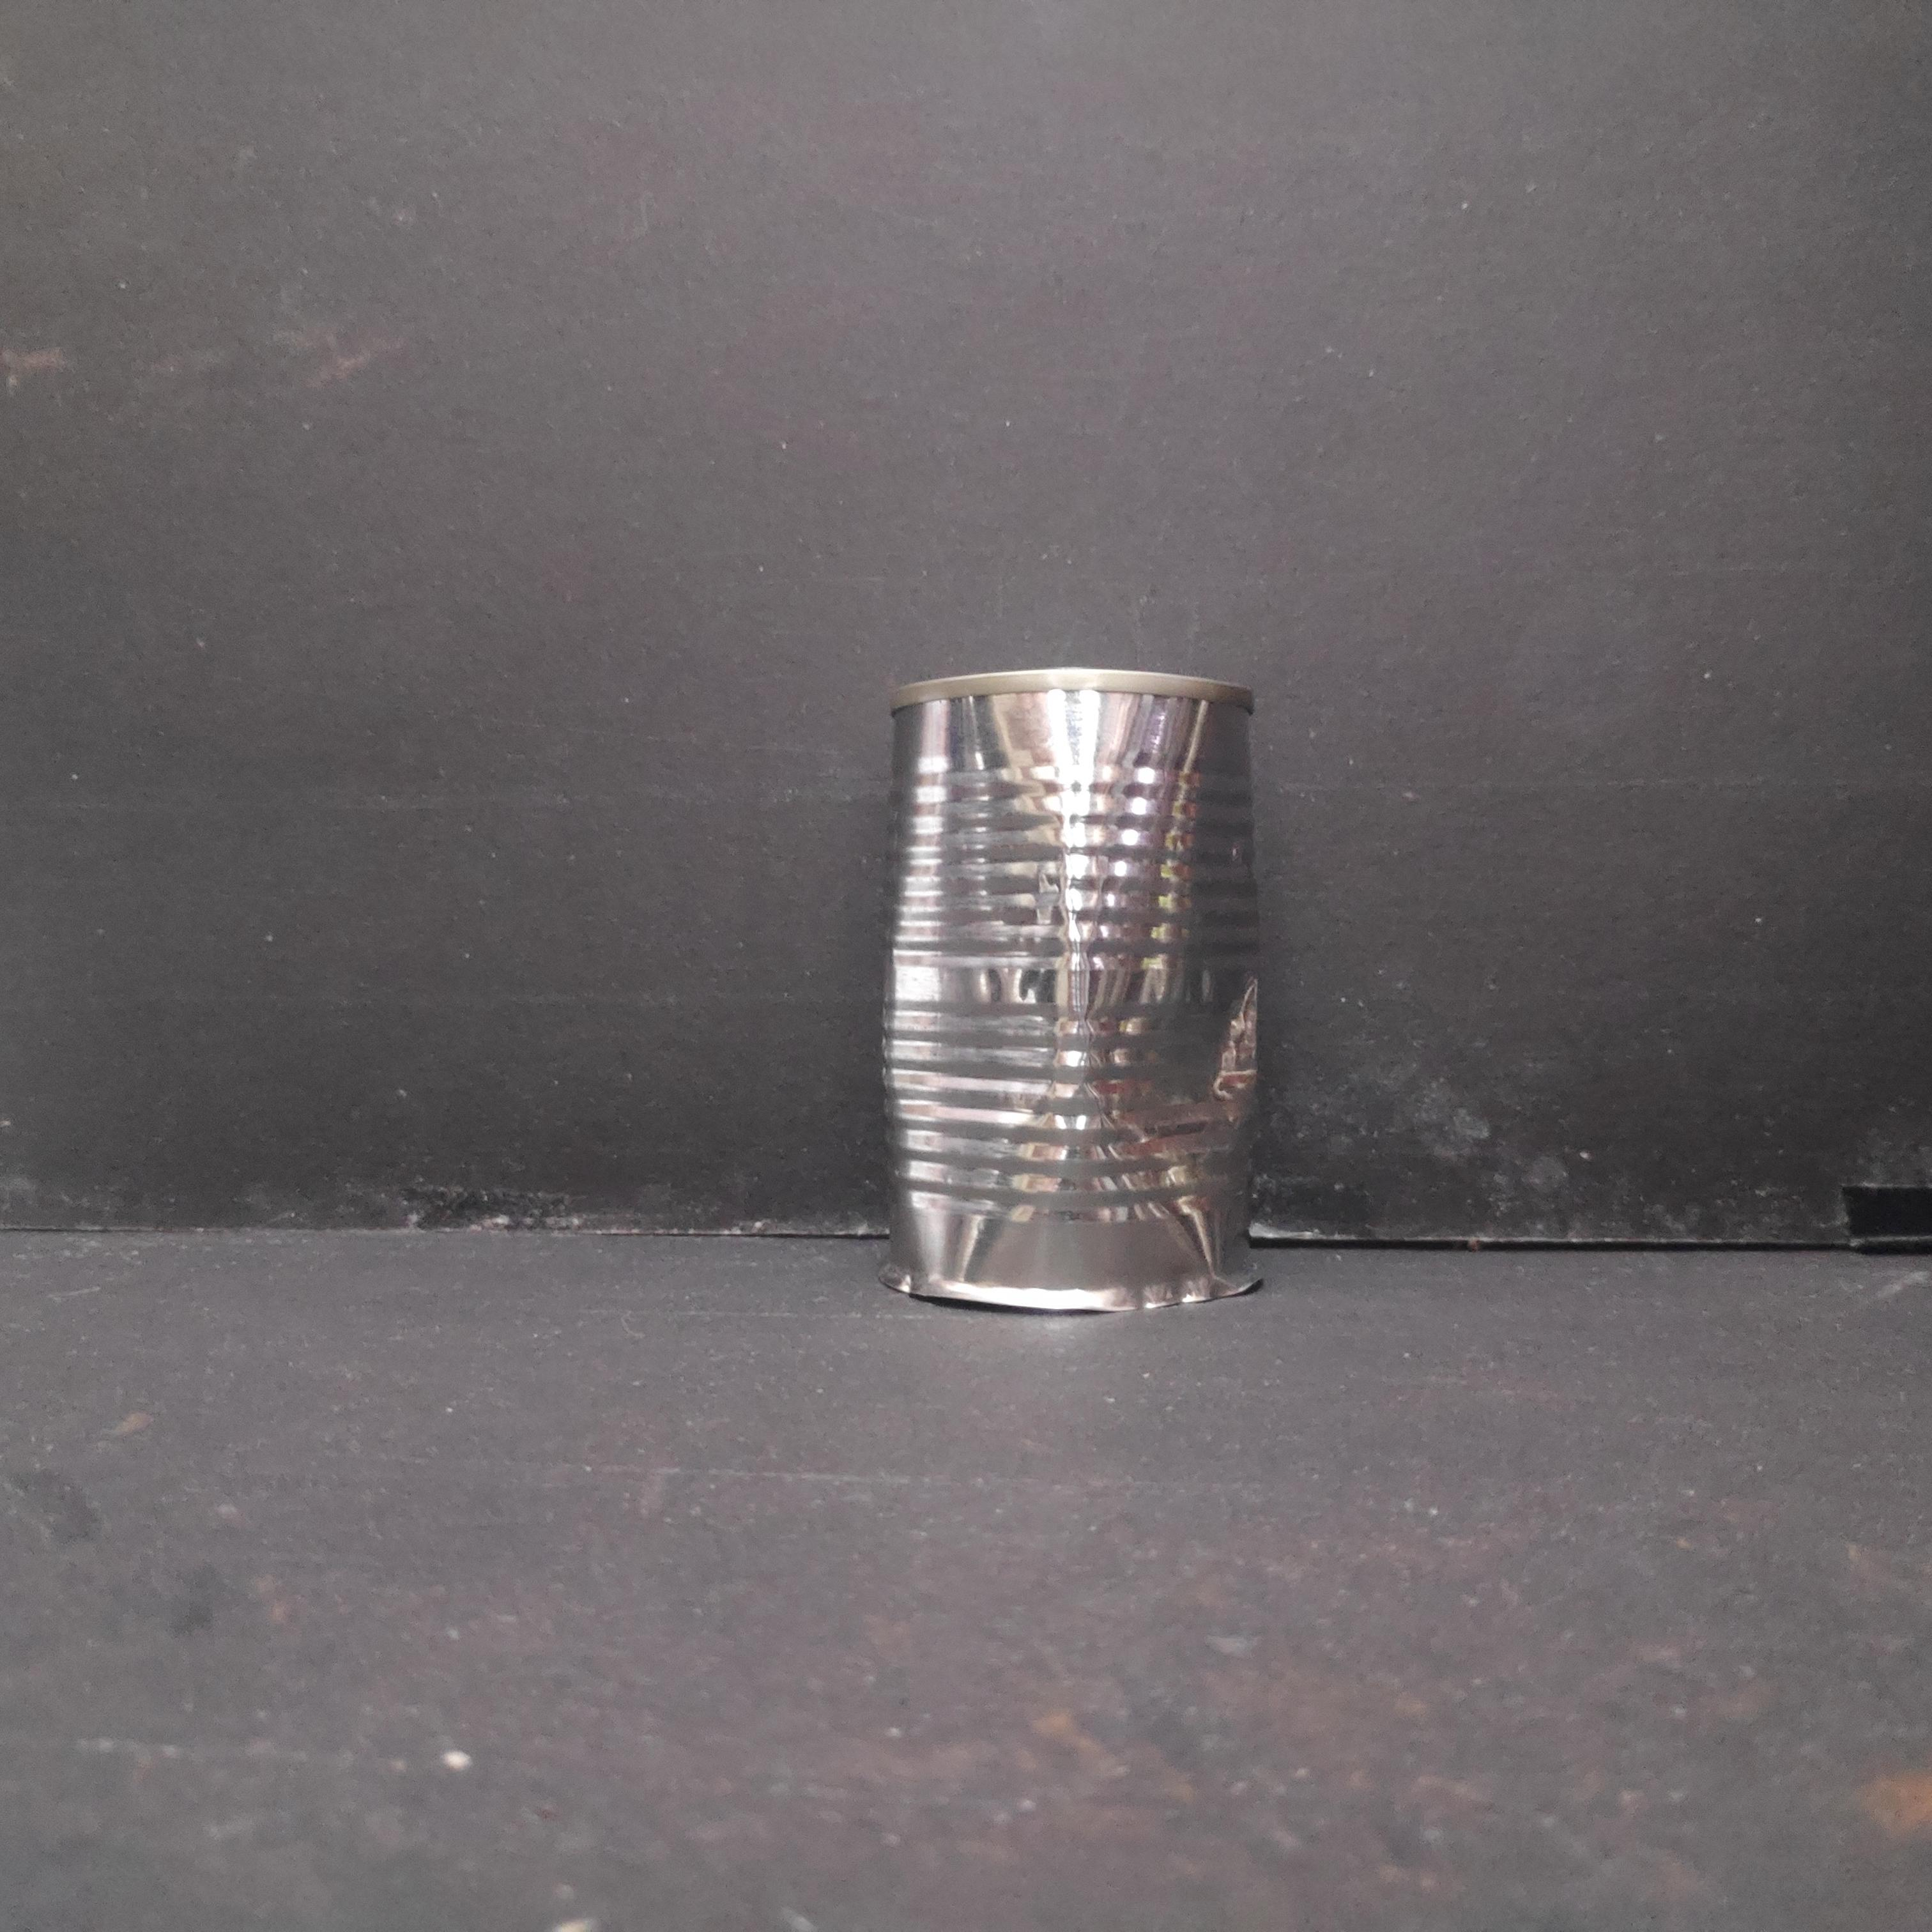Minor Defect: (865, 662, 1281, 1329)
